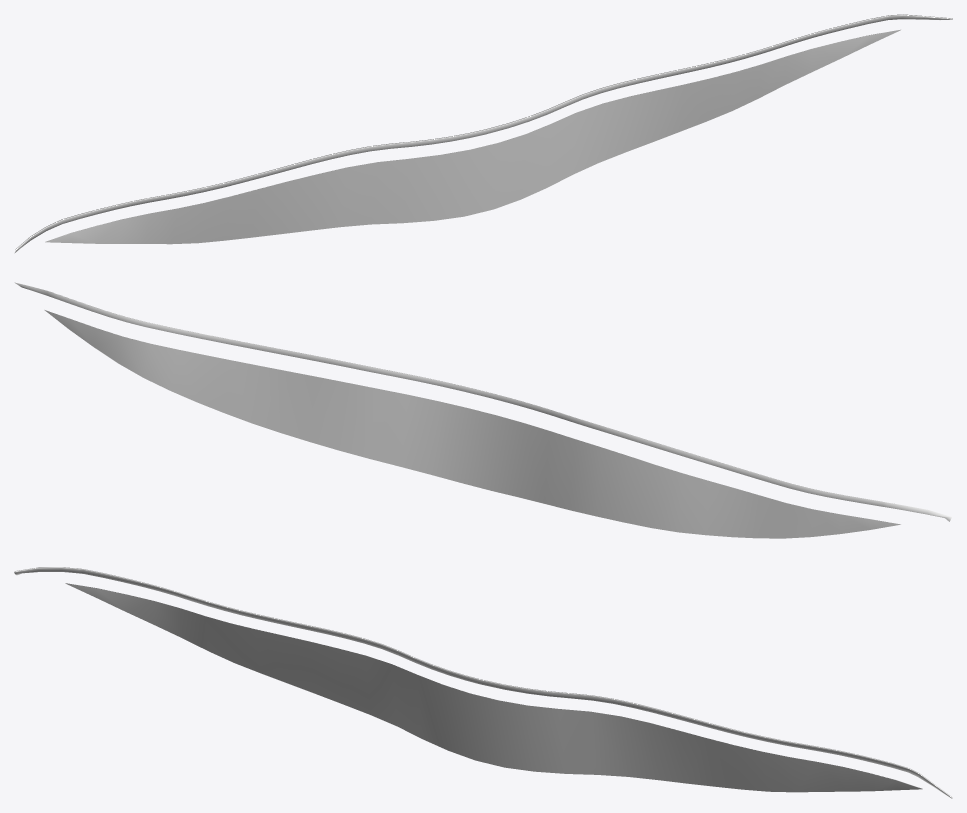
File: Jac_Flic_BEHIND_V2.glb
3 views of the same model, one above another, from view 1: azimuth 30°, elevation 25°; view 2: azimuth 150°, elevation 25°; view 3: azimuth 330°, elevation 25° (orthographic).
Parts seen in each view (by area): view 1: Jac_Flic_Back_V2.001, Jac_Rope_Flic_Back_V2.001; view 2: Jac_Flic_Back_V2.001, Jac_Rope_Flic_Back_V2.001; view 3: Jac_Flic_Back_V2.001, Jac_Rope_Flic_Back_V2.001.
Part boxes in pixels (box(x1,y1,x2,y2)): Jac_Flic_Back_V2.001: box(45, 29, 900, 244); Jac_Rope_Flic_Back_V2.001: box(14, 14, 952, 253); Jac_Flic_Back_V2.001: box(44, 310, 900, 538); Jac_Rope_Flic_Back_V2.001: box(14, 282, 951, 521); Jac_Flic_Back_V2.001: box(65, 583, 922, 792); Jac_Rope_Flic_Back_V2.001: box(14, 567, 952, 798).
Bounding box in the file's own units: 0.7115 × 0.0684 × 0.0295.
2 materials, 2 textured.
